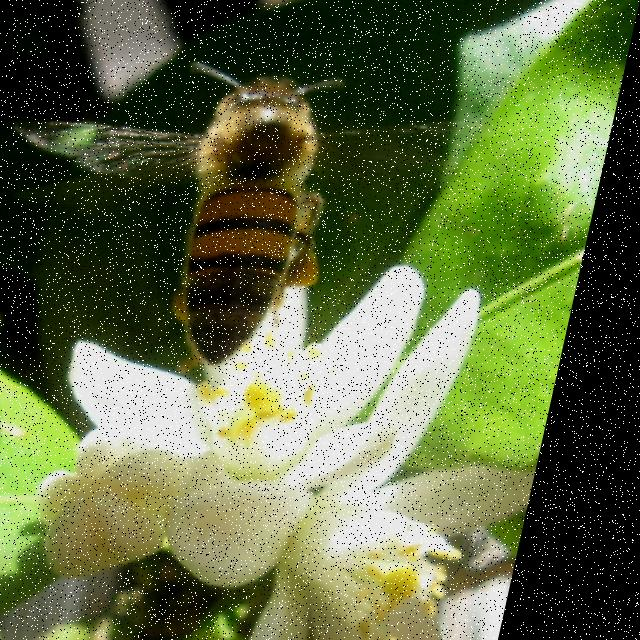Apis-mellifera-scutellata: (0, 55, 494, 400)
